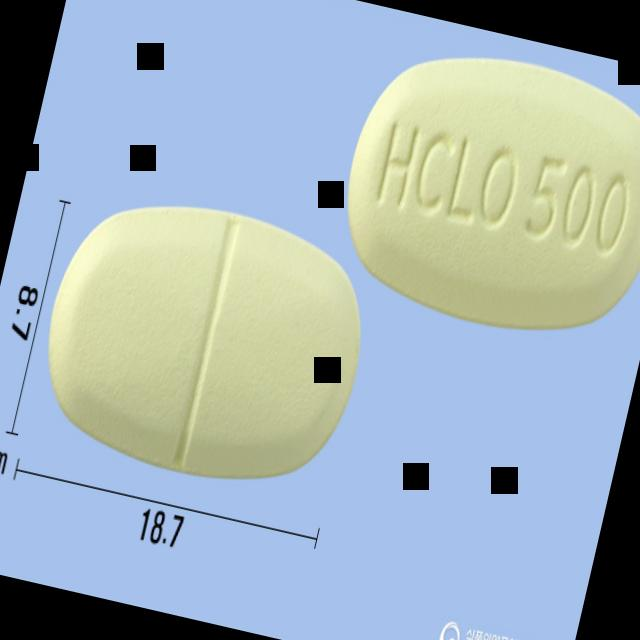Ciprofloxacin Tab- Mirae: (24, 177, 386, 503), (322, 27, 640, 356)
